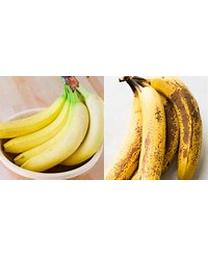banana: (116, 78, 203, 179), (0, 78, 89, 171)
